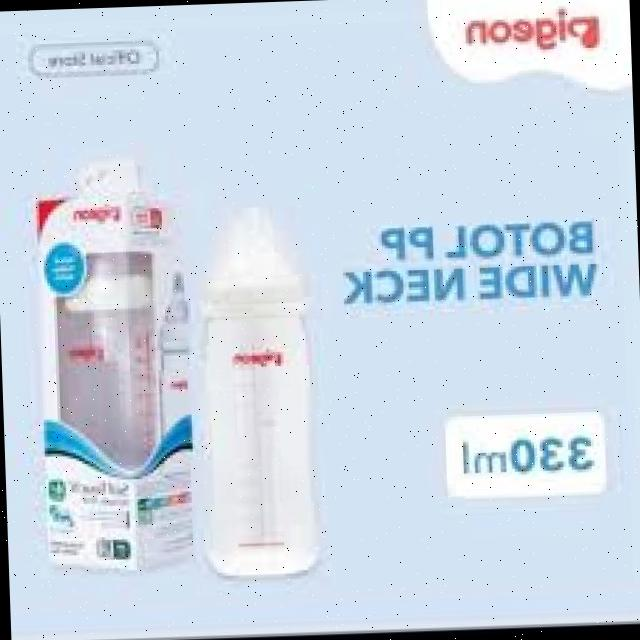bottle: (162, 209, 328, 597)
